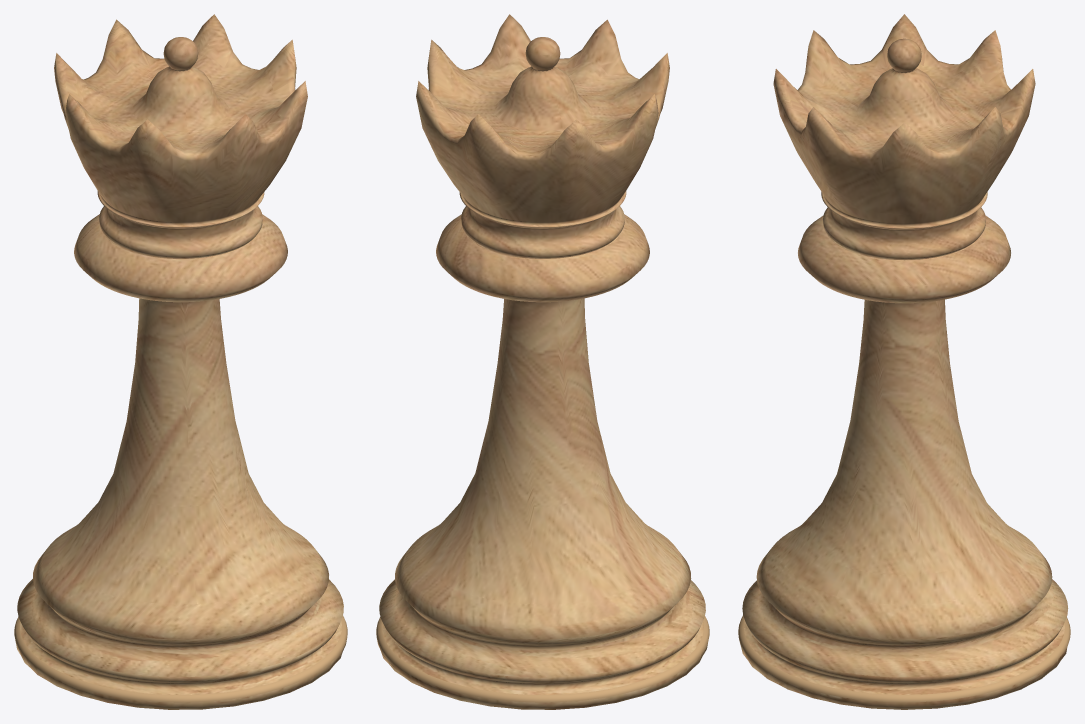
Rendered from queen_white.glb.
The picture shows the model from 3 angles, left to right: view 1: azimuth 30°, elevation 25°; view 2: azimuth 150°, elevation 25°; view 3: azimuth 270°, elevation 25°; orthographic projection.
Parts seen in each view (by area): view 1: Cylinder; view 2: Cylinder; view 3: Cylinder.
Part boxes in pixels (x1,y1,x2,y2): Cylinder: [14, 14, 347, 709]; Cylinder: [376, 14, 709, 709]; Cylinder: [738, 14, 1070, 709].
Size of the model in its own units: 0.5998 by 1.22 by 0.5998.
1 material, 1 textured.
